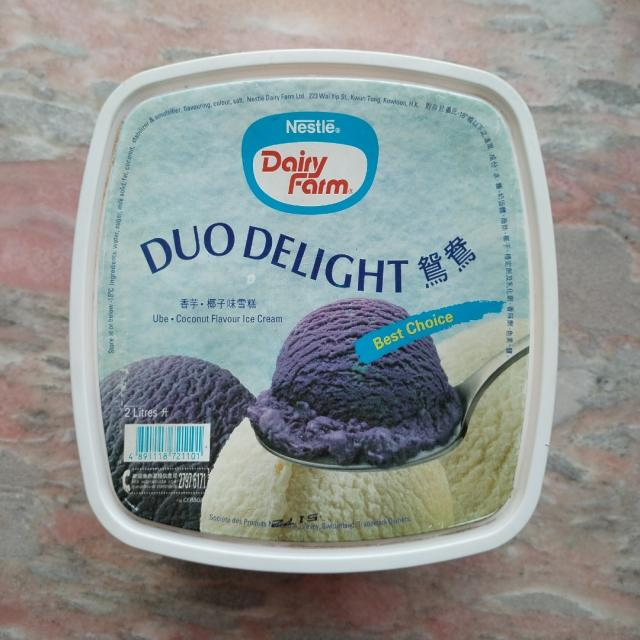plastic: (58, 52, 558, 583)
